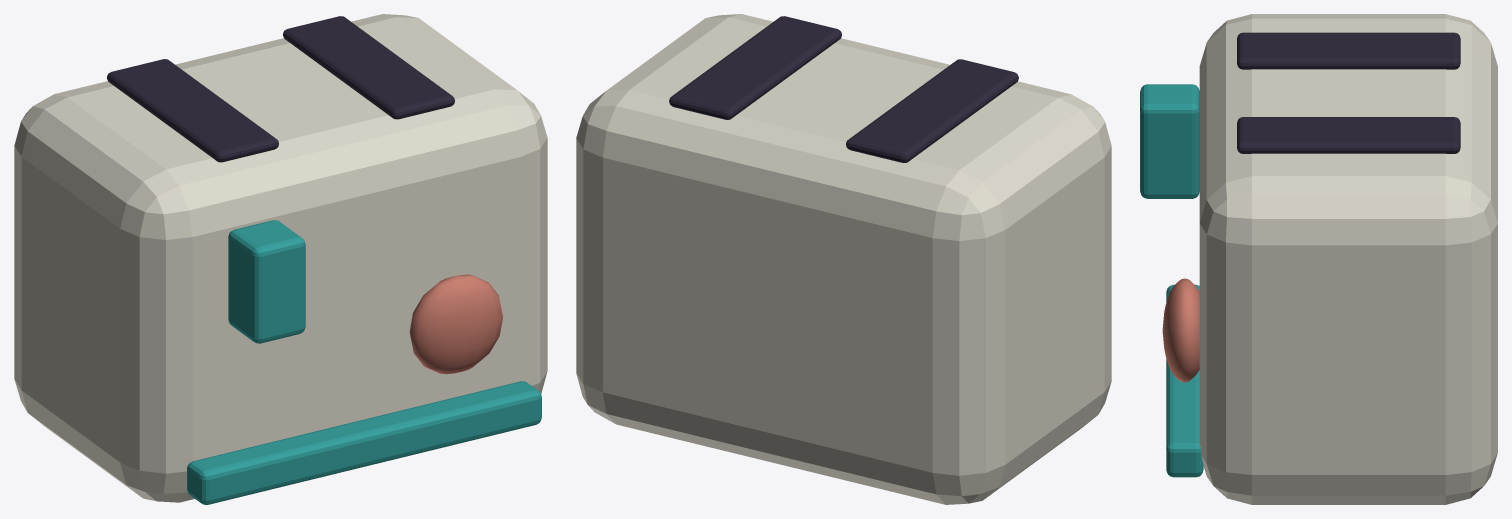
The model's file is toaster.glb.
3 renders of one model, left to right at view 1: azimuth 30°, elevation 25°; view 2: azimuth 150°, elevation 25°; view 3: azimuth 270°, elevation 25°, orthographic. The views are drawn at different scales.
Parts seen in each view (by area): view 1: Cream_body, Crumb_drawer, Lever, Top_slot.001, Top_slot, Dial; view 2: Cream_body, Top_slot, Top_slot.001; view 3: Cream_body, Top_slot, Top_slot.001, Lever, Crumb_drawer, Dial.
Boxes of the visible parts, x1,y1,x2,y2 form: Cream_body: [14, 14, 547, 502]; Crumb_drawer: [187, 381, 541, 504]; Lever: [228, 220, 305, 343]; Top_slot.001: [283, 16, 454, 119]; Top_slot: [107, 59, 278, 162]; Dial: [409, 274, 502, 374]; Cream_body: [576, 14, 1111, 504]; Top_slot: [846, 59, 1018, 162]; Top_slot.001: [669, 16, 841, 119]; Cream_body: [1199, 14, 1497, 504]; Top_slot: [1237, 32, 1460, 69]; Top_slot.001: [1237, 117, 1460, 153]; Lever: [1140, 84, 1199, 198]; Crumb_drawer: [1166, 284, 1203, 477]; Dial: [1162, 278, 1199, 382].
Bounding box in the file's own units: 0.32 × 0.247 × 0.24.
